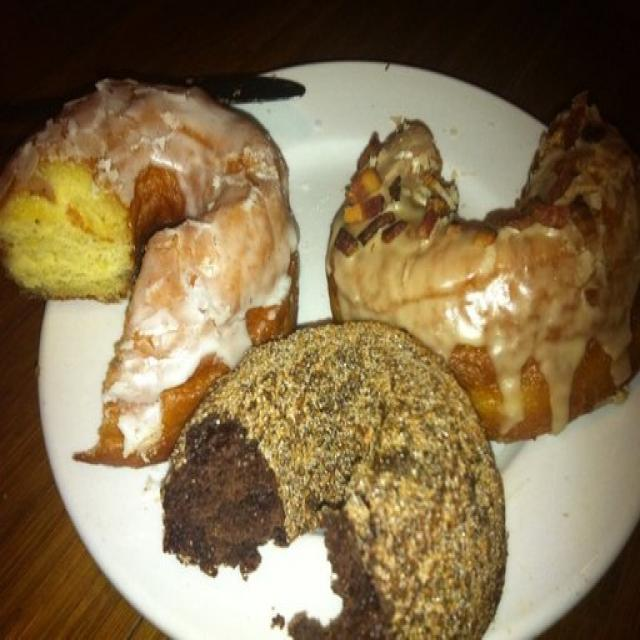Donuts: (4, 77, 640, 640)
